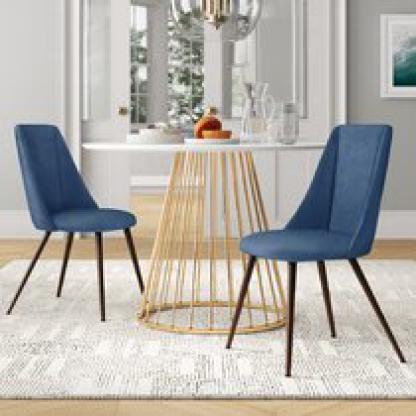chair: (227, 114, 409, 383), (7, 114, 150, 330)
table: (80, 109, 327, 334)
